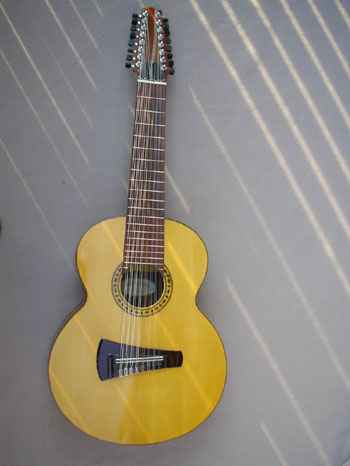guitar: (47, 6, 229, 445)
